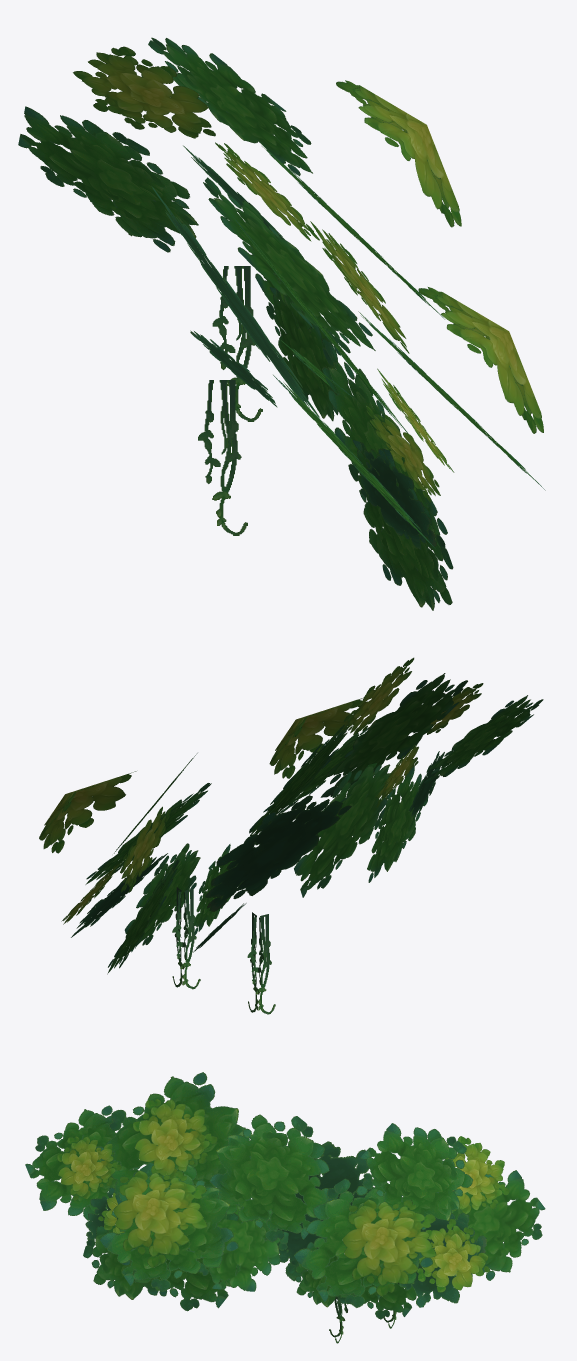
The model's file is ZJM_LaoShu.FBX.
3 views of the same model, one above another, from view 1: azimuth 30°, elevation 25°; view 2: azimuth 150°, elevation 25°; view 3: azimuth 270°, elevation 25° (orthographic). The views are drawn at different scales.
Parts seen in each view (by area): view 1: shu; view 2: shu; view 3: shu.
Part boxes in pixels (x1,y1,x2,y2): shu: (18, 37, 545, 610); shu: (39, 657, 543, 1014); shu: (25, 1072, 545, 1343).
Bounding box in the file's own units: 1742 × 3476 × 1758.
